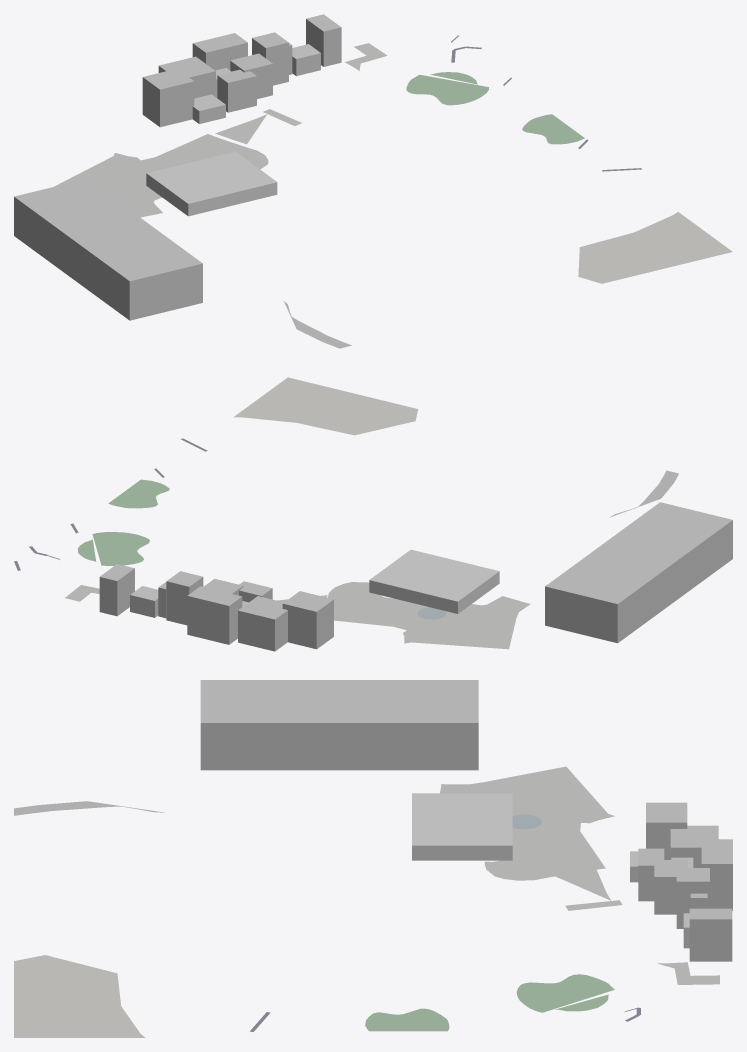
Rendered from 131_120_mid.glb.
The picture shows the model from 3 angles, top to bottom: view 1: azimuth 30°, elevation 25°; view 2: azimuth 150°, elevation 25°; view 3: azimuth 270°, elevation 25°; orthographic projection. The views are drawn at different scales.
Size of the model in its own units: 524 by 45.92 by 509.
